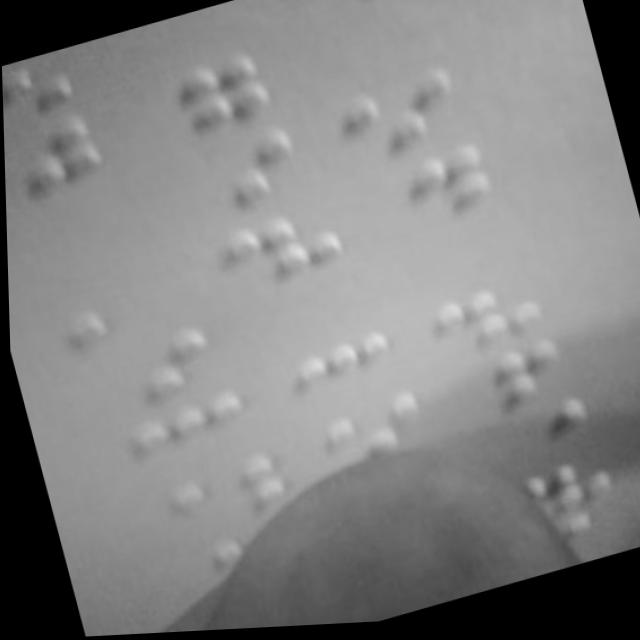braiile: (121, 385, 264, 491), (330, 64, 472, 168), (133, 51, 277, 153), (359, 140, 503, 242), (204, 202, 348, 303), (178, 127, 311, 230), (94, 321, 224, 414), (435, 338, 570, 427), (3, 106, 115, 207), (425, 278, 546, 368), (282, 332, 402, 421), (1, 48, 82, 144), (274, 0, 405, 33)
